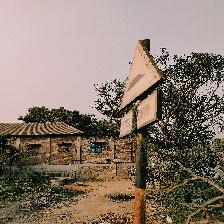Speed-breaker: (115, 39, 162, 135)
